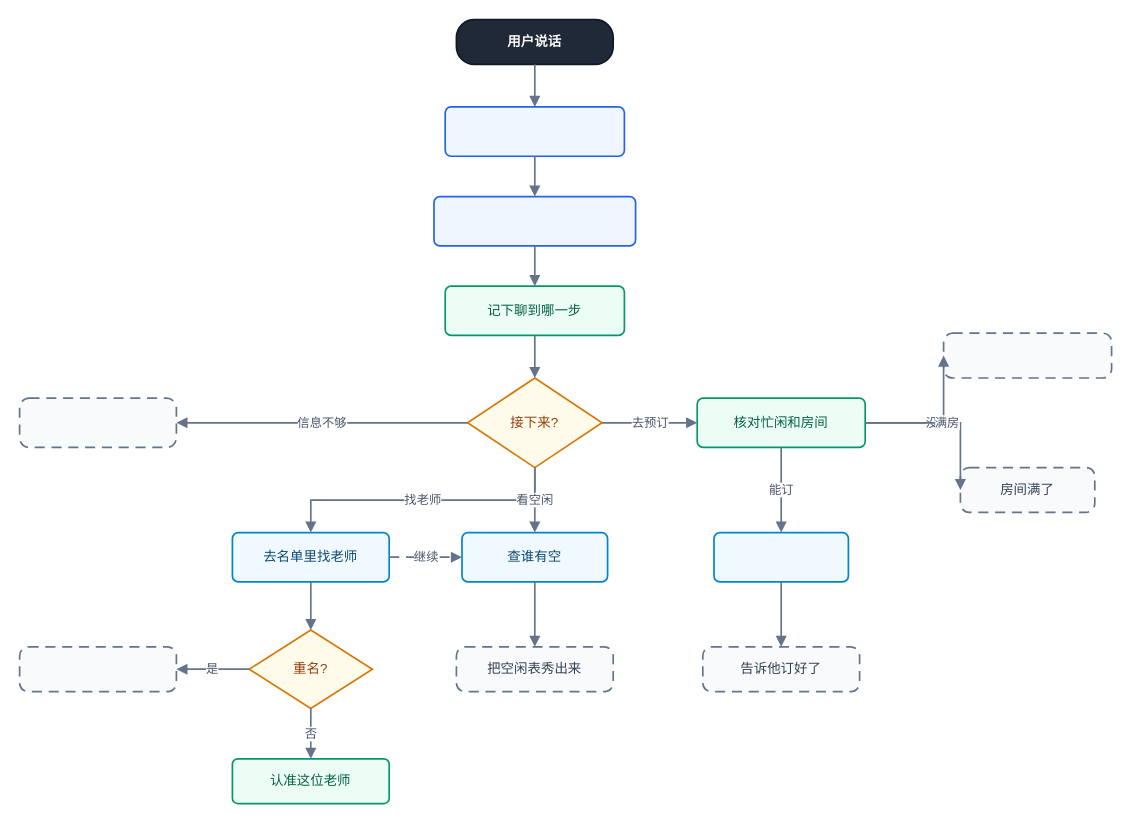
The diagram is 1132 pixels wide and 824 high, and some of its shapes have lost their labels. Each missing label, with the centre of its shape:
"先看他想干啥" goes at pixel 534 131.
"再问问老师是谁" goes at pixel 97 422.
"列出几个让人选" goes at pixel 97 668.
"抠出时间、人、地点" goes at pixel 534 220.
"老师没空，换时间" goes at pixel 1027 355.
"订下并通知" goes at pixel 781 556.
